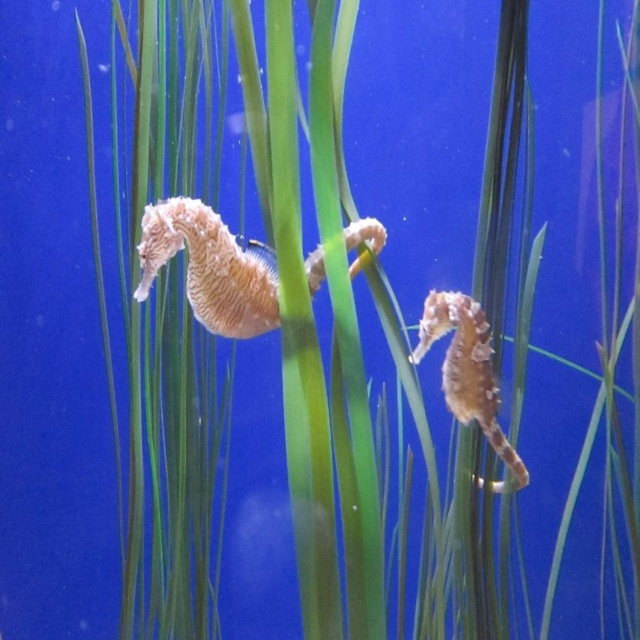Seahorse: (133, 196, 387, 339), (408, 287, 530, 493)
